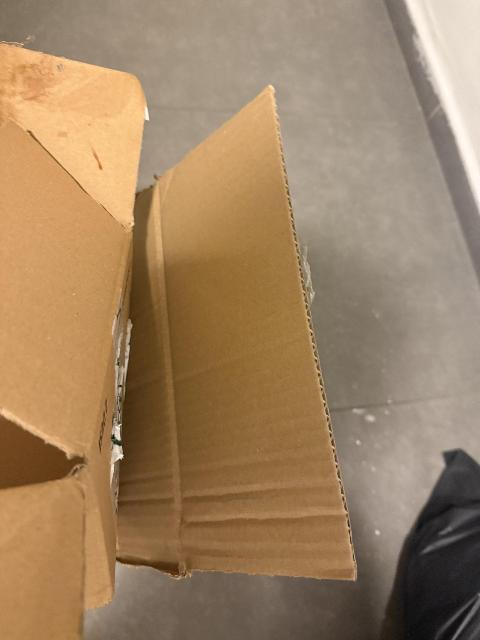Kagit: (0, 37, 359, 640)
Plastik: (382, 444, 480, 640)
